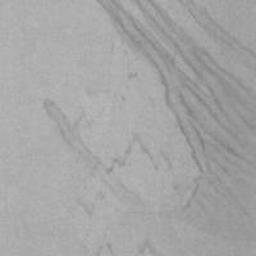Water spot: (41, 0, 256, 250), (183, 0, 256, 72)
